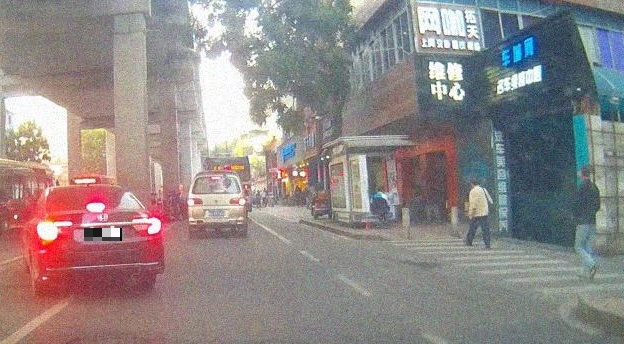L_light: (36, 221, 73, 241), (188, 198, 203, 205)
R_light: (131, 217, 161, 234), (230, 197, 245, 205)
T_light: (86, 204, 106, 210), (211, 177, 222, 179)
day-brake: (35, 184, 164, 294), (188, 171, 246, 237)
plate_1: (84, 228, 122, 241)
